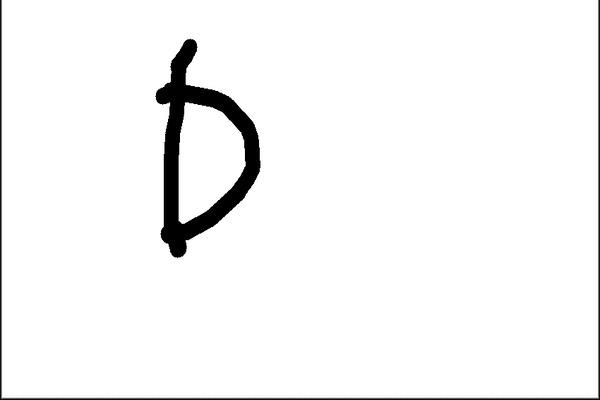D: (147, 31, 266, 261)
